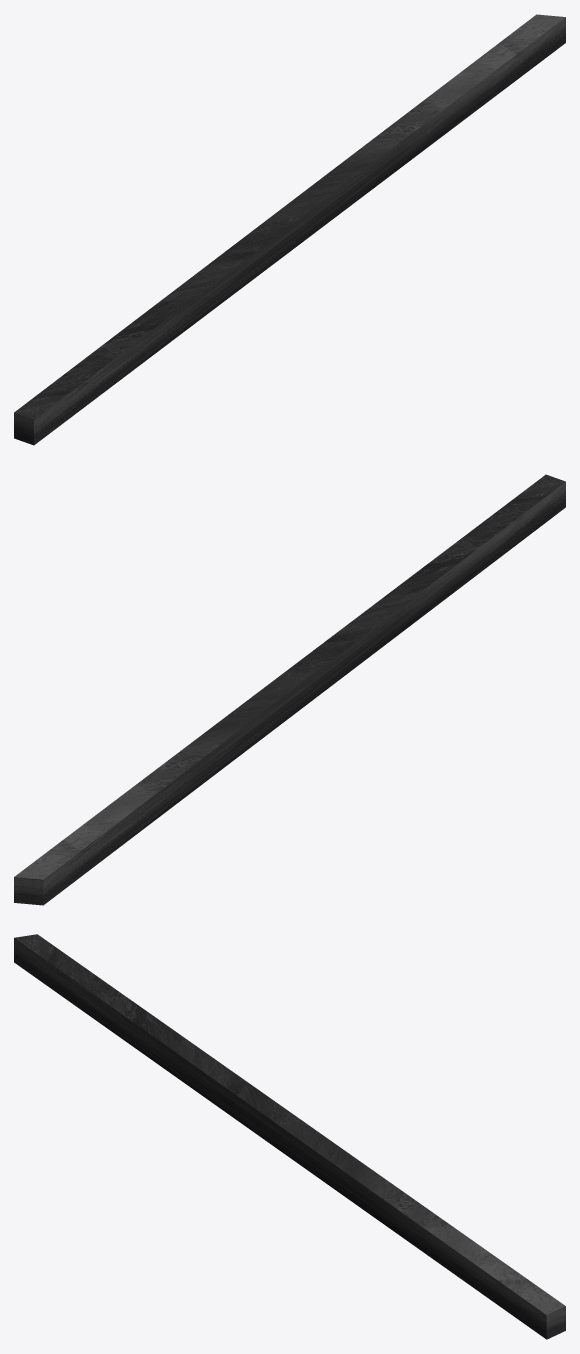
Rendered from noir6.FBX.
3 views of the same model, one above another, from view 1: azimuth 30°, elevation 25°; view 2: azimuth 210°, elevation 25°; view 3: azimuth 270°, elevation 25° (orthographic). The views are drawn at different scales.
Visible parts, largest first — view 1: Ligne007; view 2: Ligne007; view 3: Ligne007.
Boxes of the visible parts, left/top/right/bottom form: Ligne007: left=14, top=14, right=565, bottom=445; Ligne007: left=14, top=474, right=565, bottom=905; Ligne007: left=14, top=934, right=565, bottom=1339.
Bounding box in the file's own units: 14.75 × 0.4438 × 9.03.
1 material, 1 textured.
